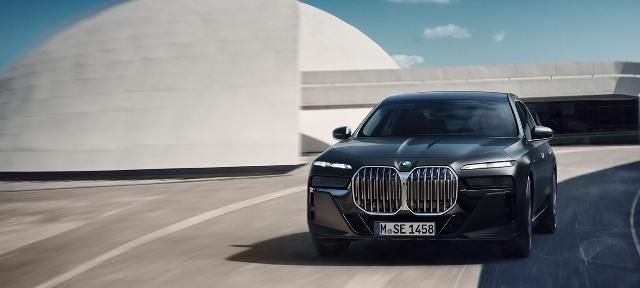bmw: (307, 90, 559, 255)
